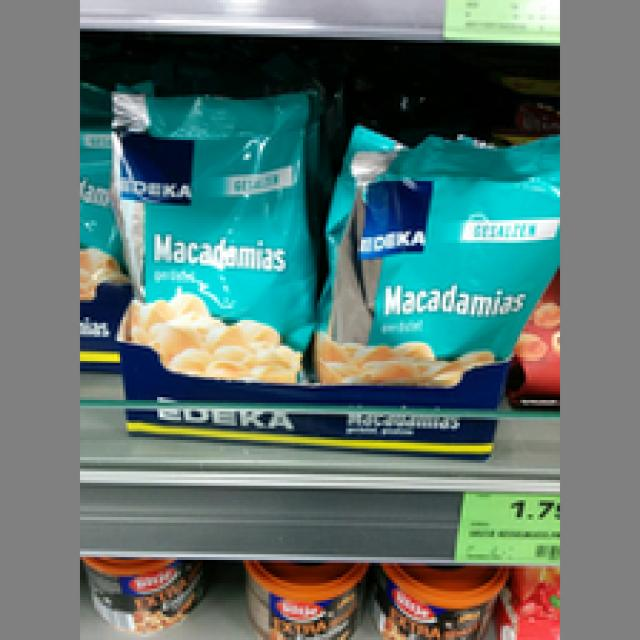groceries: (312, 123, 557, 386), (106, 77, 317, 380)
